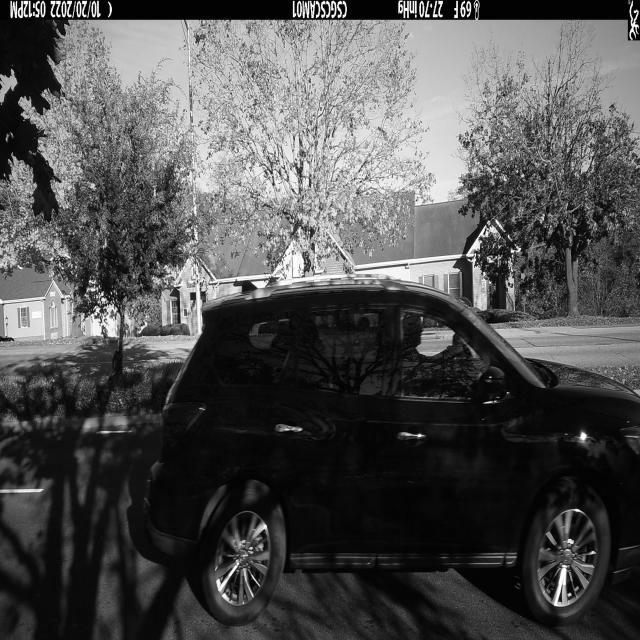SUV: (143, 275, 640, 629)
